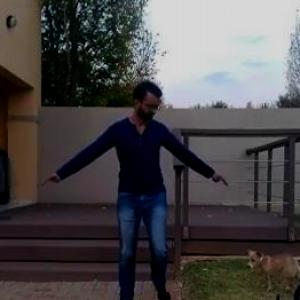land: (24, 82, 220, 299)
